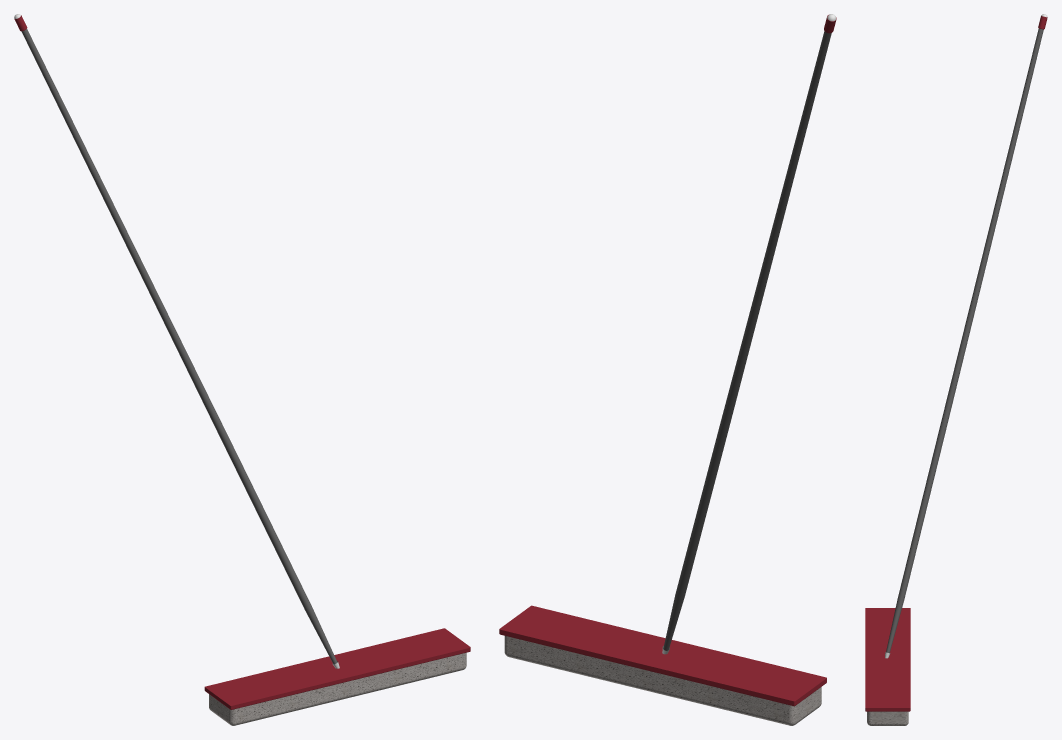
The model's file is mop.glb.
3 views of the same model, side by side, from view 1: azimuth 30°, elevation 25°; view 2: azimuth 150°, elevation 25°; view 3: azimuth 270°, elevation 25° (orthographic). The views are drawn at different scales.
Visible parts, largest first — view 1: Object_4, Object_2, Object_3; view 2: Object_4, Object_3, Object_2; view 3: Object_4, Object_2, Object_3.
Boxes of the visible parts, x1=… form: Object_4: x1=14, y1=15, x2=470, y2=709; Object_2: x1=21, y1=29, x2=337, y2=664; Object_3: x1=209, y1=652, x2=466, y2=725; Object_4: x1=499, y1=15, x2=836, y2=706; Object_3: x1=504, y1=636, x2=821, y2=725; Object_2: x1=662, y1=31, x2=831, y2=650; Object_4: x1=865, y1=16, x2=1047, y2=711; Object_2: x1=885, y1=28, x2=1043, y2=653; Object_3: x1=867, y1=711, x2=908, y2=725.
Bounding box in the file's own units: 0.8242 × 1.49 × 0.4327.
Materials: 4 (1 with a texture image).
